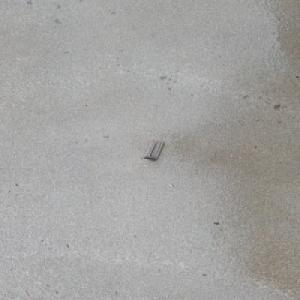MetalPart: (139, 140, 165, 161)
